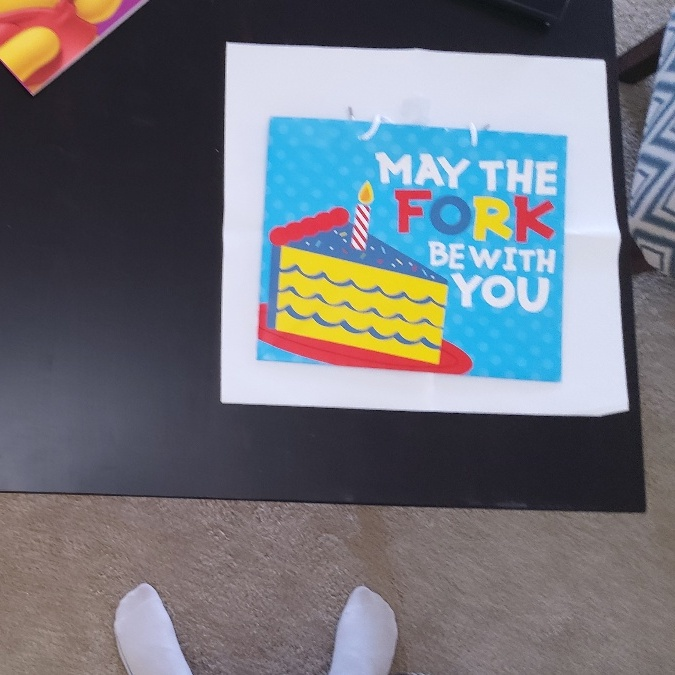paper_bag: (271, 120, 561, 373)
